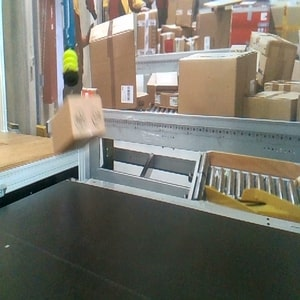box: (50, 93, 107, 156)
